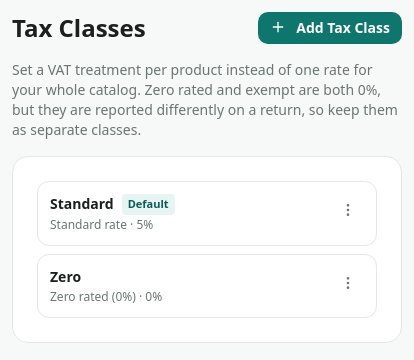
Test: phone card lists › tax classes: the default class has no delete in its menu
Expected: the list with class "space-y-2" is shown, [37,181,377,318]
Expected: the text "Zero" is shown, [50,266,81,286]
Click the button named "More actions for Standard" at (348, 210), box [332,194,364,226]
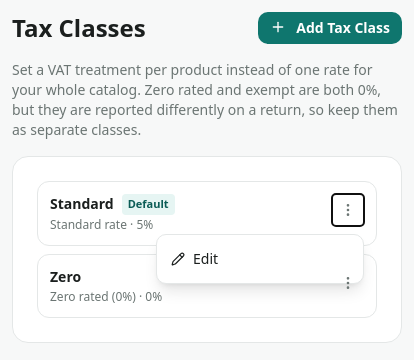
Expected: the menu item "Edit" is shown, [157,241,363,277]
